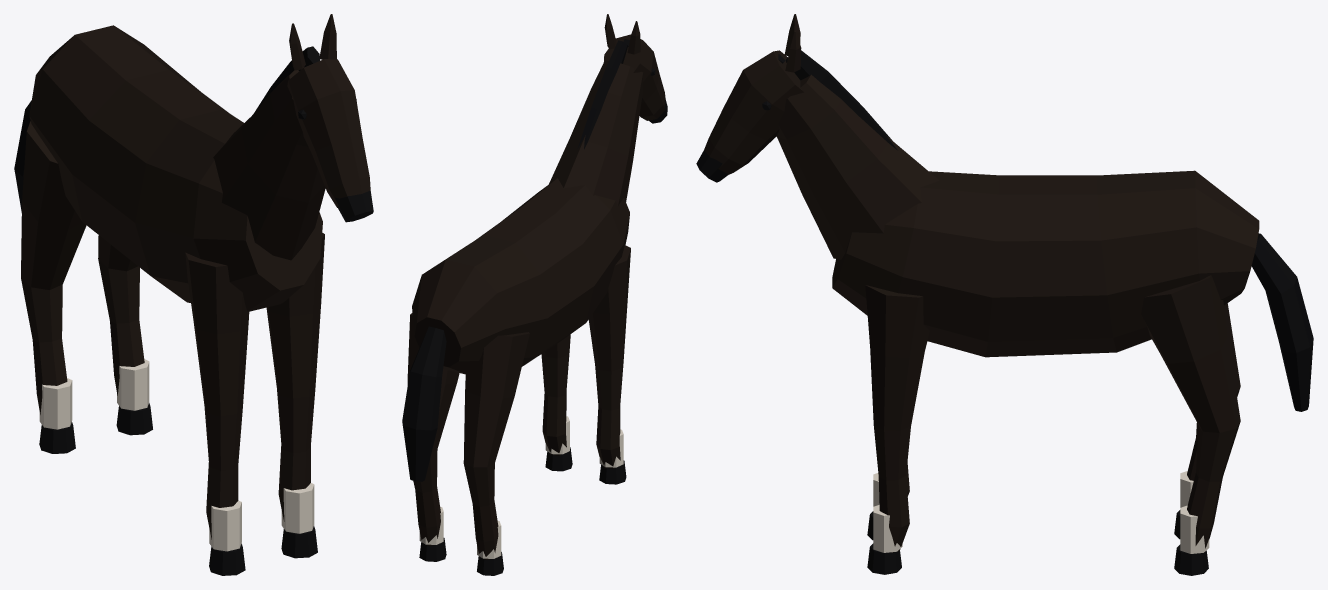
File: SM_Horse_Black.obj
The picture shows the model from 3 angles, left to right: view 1: azimuth 30°, elevation 25°; view 2: azimuth 150°, elevation 25°; view 3: azimuth 270°, elevation 25°; orthographic projection. The views are drawn at different scales.
Parts seen in each view (by area): view 1: SM_Horse_Black; view 2: SM_Horse_Black; view 3: SM_Horse_Black.
Part boxes in pixels (left/top/right/bottom): SM_Horse_Black: left=14, top=14, right=373, bottom=575; SM_Horse_Black: left=402, top=14, right=667, bottom=575; SM_Horse_Black: left=696, top=14, right=1313, bottom=575.
Size of the model in its own units: 0.59 by 2.28 by 2.41.
